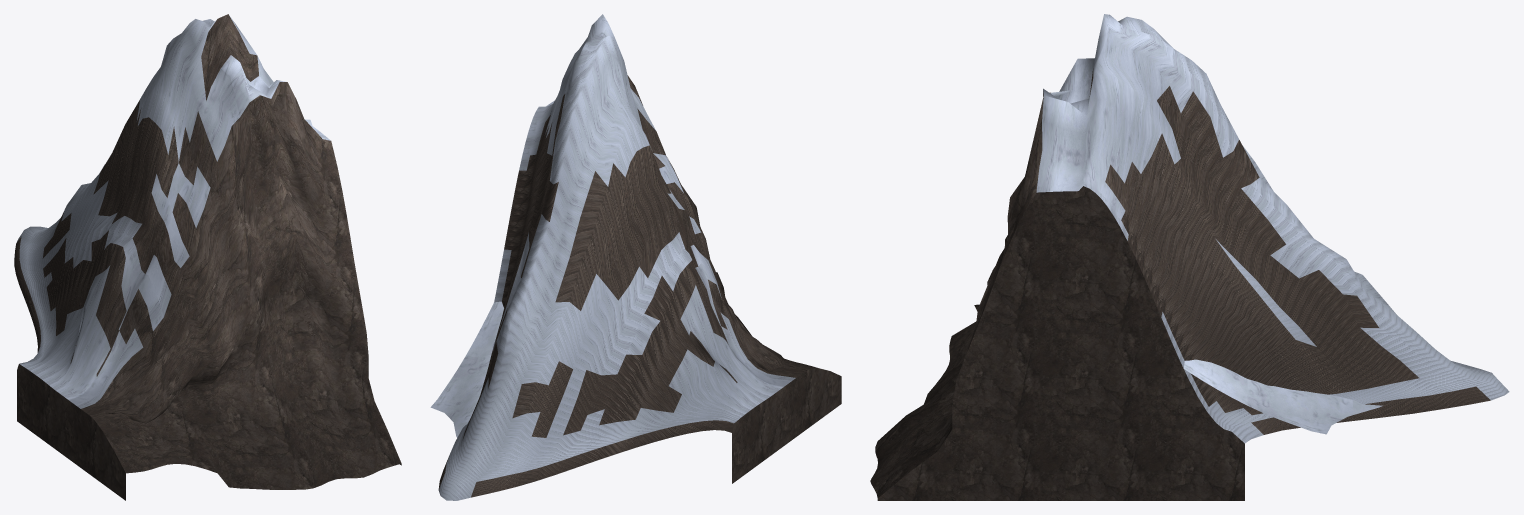
File: seacliff_endcap_left_h5_a_v5_winter.glb
3 renders of one model, left to right at view 1: azimuth 30°, elevation 25°; view 2: azimuth 150°, elevation 25°; view 3: azimuth 270°, elevation 25°, orthographic. The views are drawn at different scales.
Visible parts, largest first — view 1: seacliff_endcap_left_h5_a; view 2: seacliff_endcap_left_h5_a; view 3: seacliff_endcap_left_h5_a.
Boxes of the visible parts, <box> form: seacliff_endcap_left_h5_a: <box>14,14,401,500</box>; seacliff_endcap_left_h5_a: <box>430,14,841,500</box>; seacliff_endcap_left_h5_a: <box>870,14,1509,500</box>.
Size of the model in its own units: 6 by 9.35 by 12.12.
Materials: 2 (2 with a texture image).
